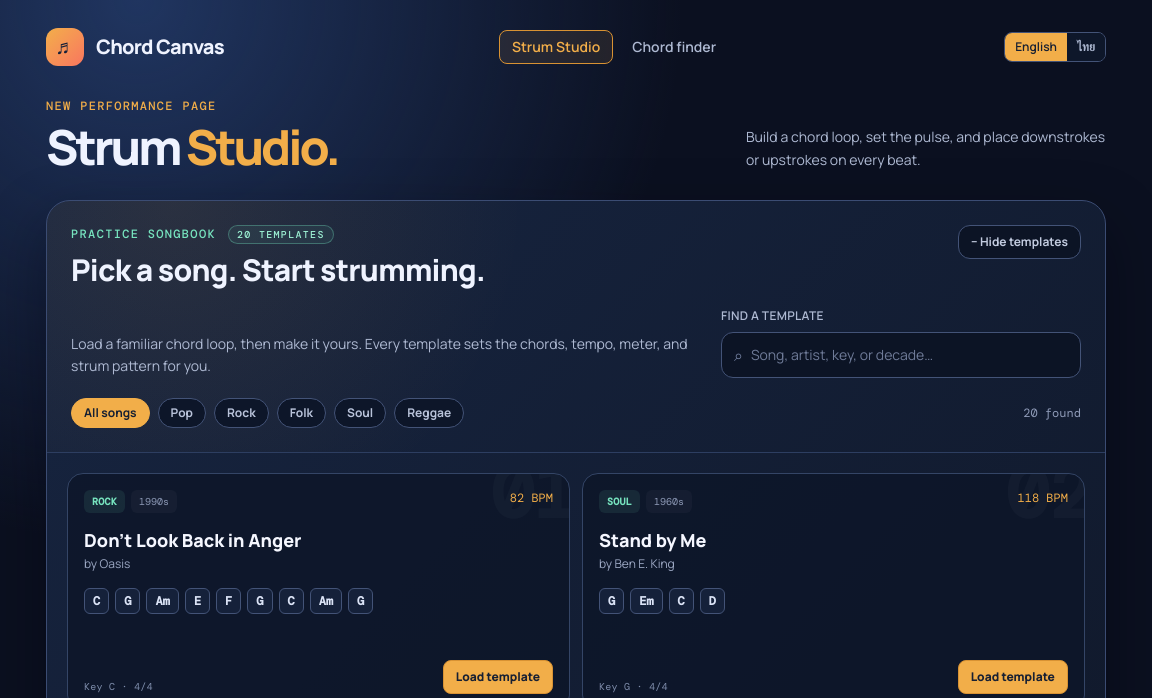
Test: StrumStudioPage › searches and filters the 20-song template library
expect the text "20 templates" is shown: met, box [228, 225, 334, 244]
Click the button "− Hide templates". click: (1019, 242)
box: [958, 225, 1081, 259]
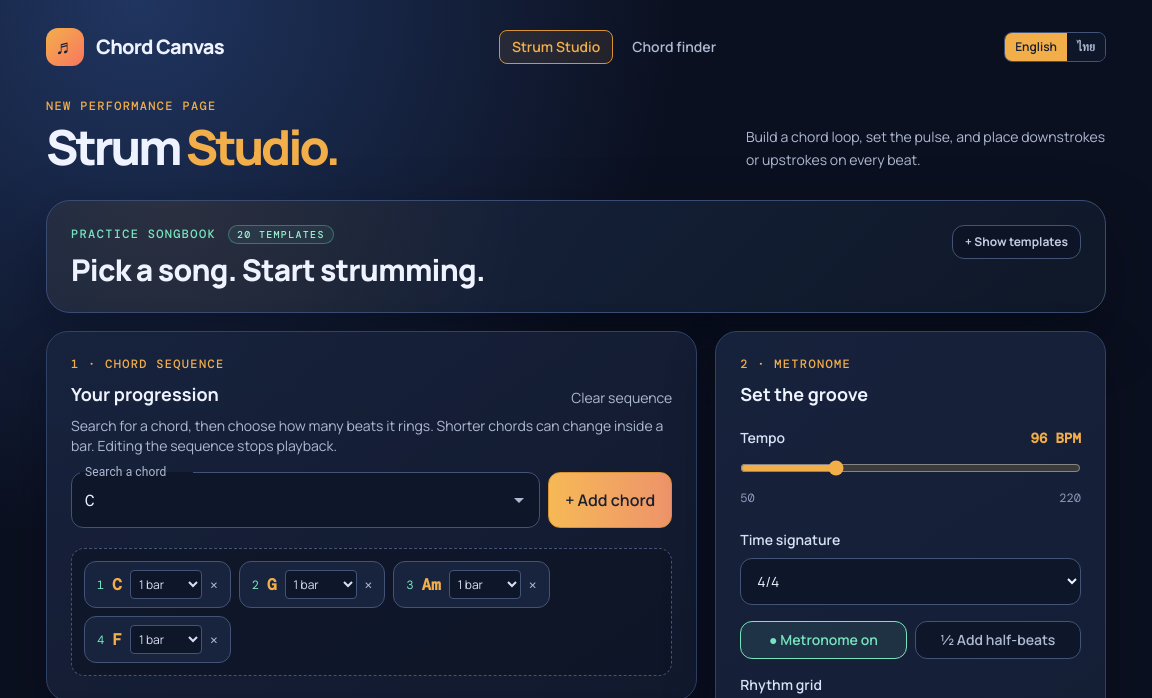
expect the text "Find a template" is gone: met
expect the button "+ Show templates" is collapsed: met
Click the button "+ Show templates". click: (1016, 242)
box: [952, 225, 1081, 259]
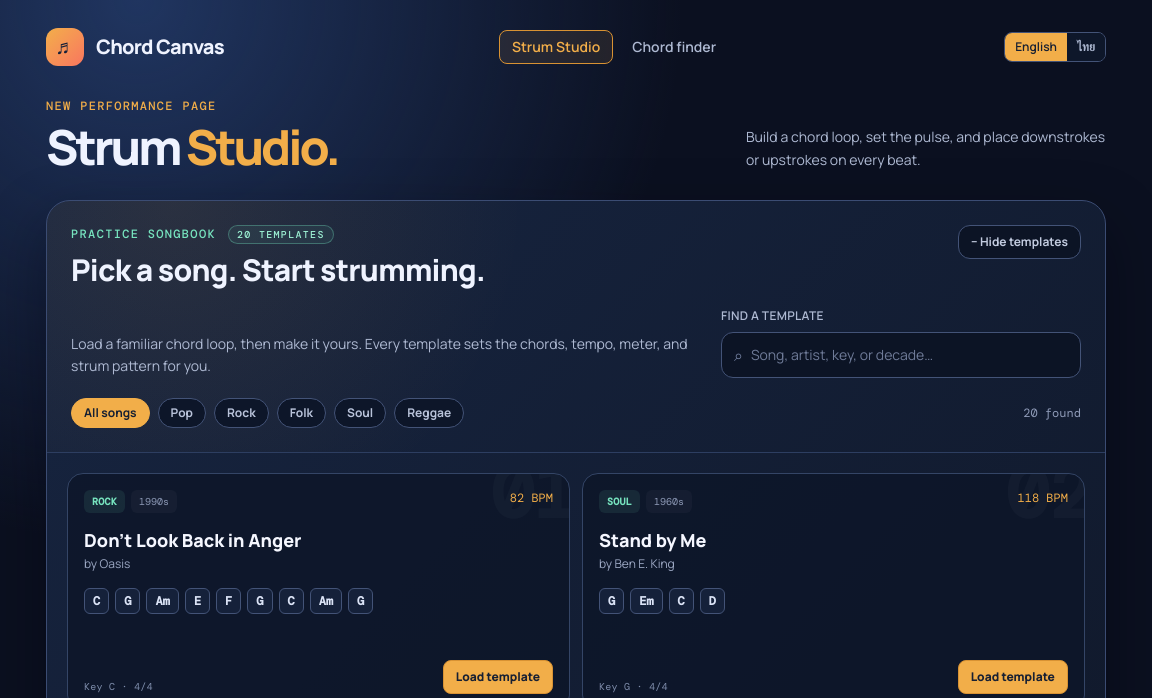
expect the button "− Hide templates" is expanded: met, box [958, 225, 1081, 259]
Type "Adele" into the search field labelled "Find a template". click: (909, 355)
box: [751, 333, 1068, 377]
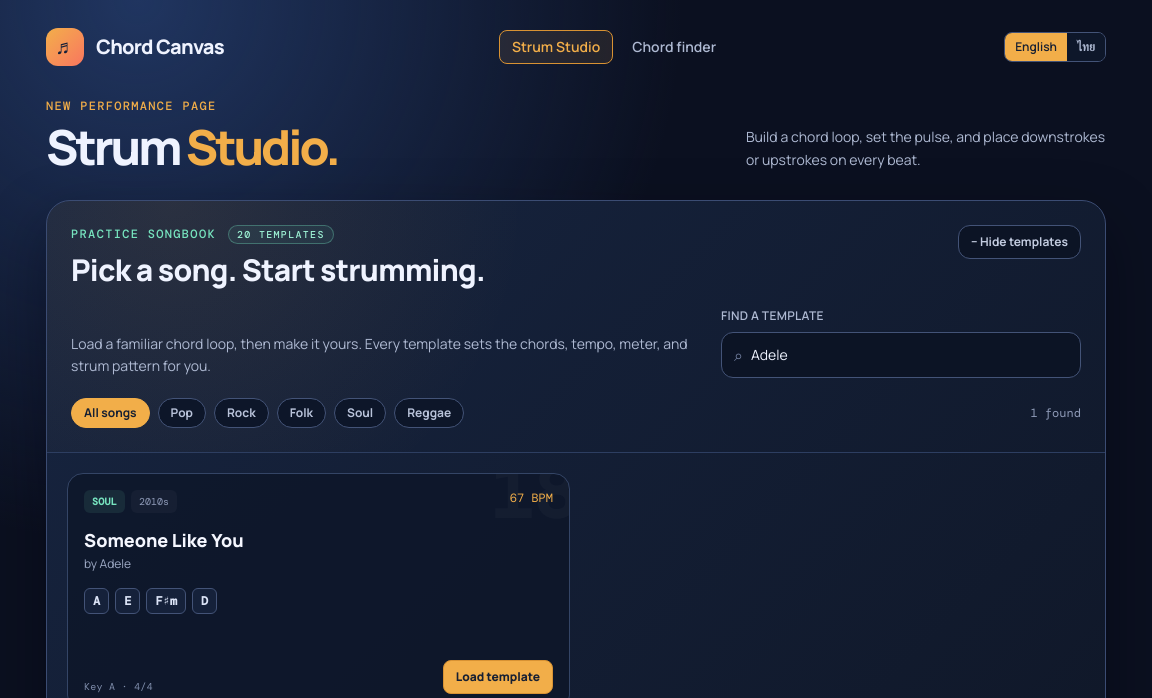
expect the heading "Someone Like You" is shown: met, box [84, 528, 244, 552]
expect the text "1 found" is shown: met, box [1030, 405, 1081, 421]
Clear the search field labelled "Find a template". click: (909, 355)
box: [751, 333, 1068, 377]
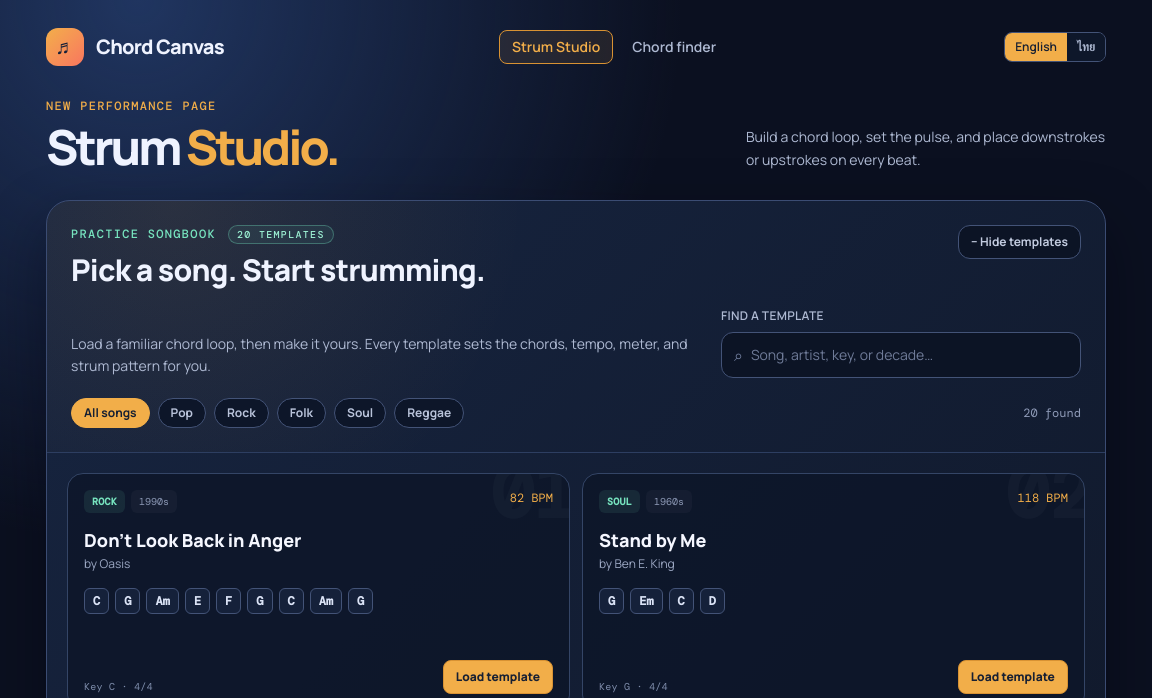
Click the button "Rock". click: (241, 413)
box: [214, 398, 269, 428]
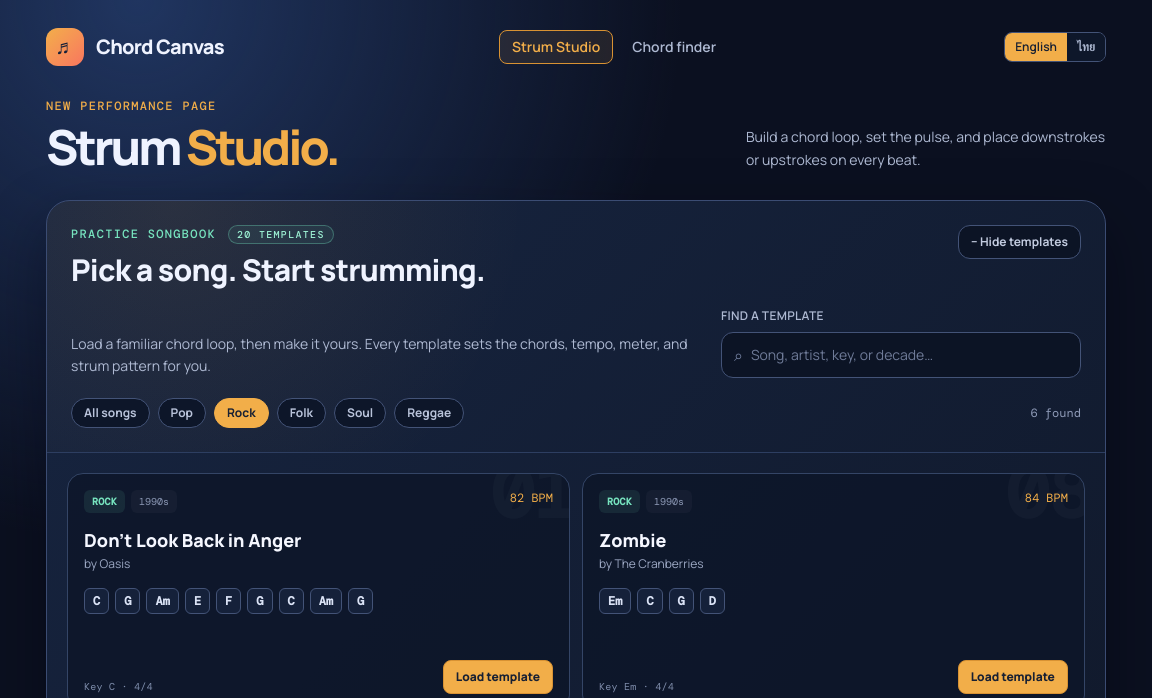
expect the heading "Zombie" is shown: met, box [599, 528, 666, 552]
Type "not a song" into the search field labelled "Find a template". click: (909, 355)
box: [751, 333, 1068, 377]
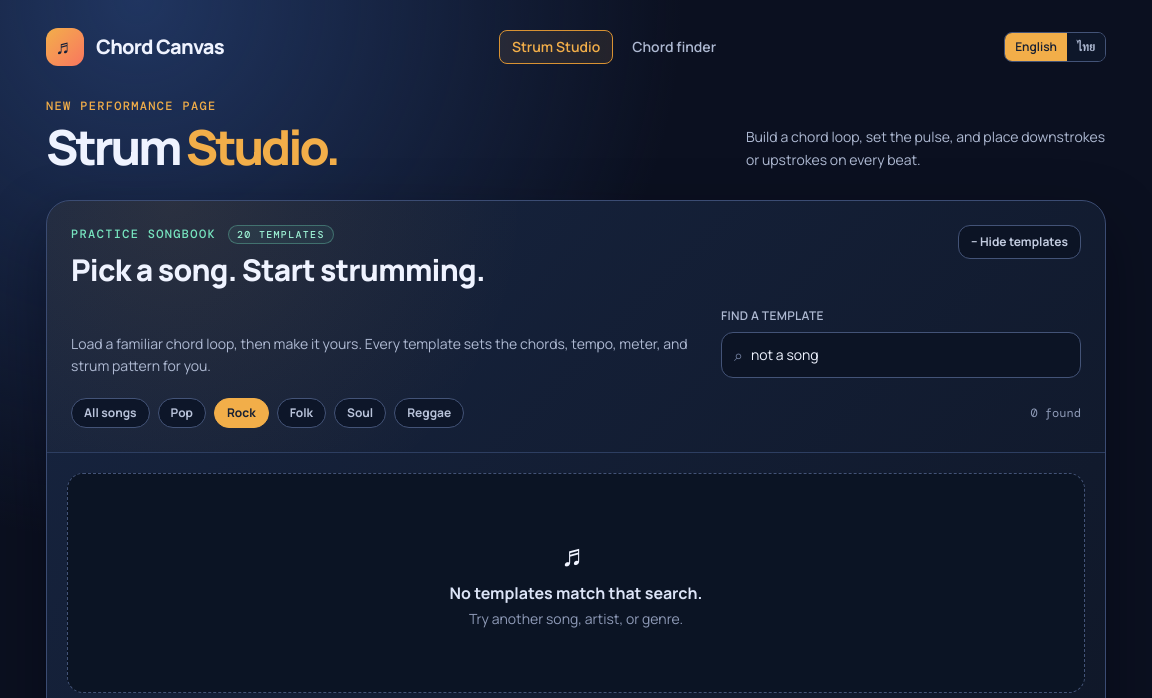
expect the text "No templates match that search." is shown: met, box [450, 581, 702, 605]
expect the text "0 found" is shown: met, box [1030, 405, 1081, 421]
